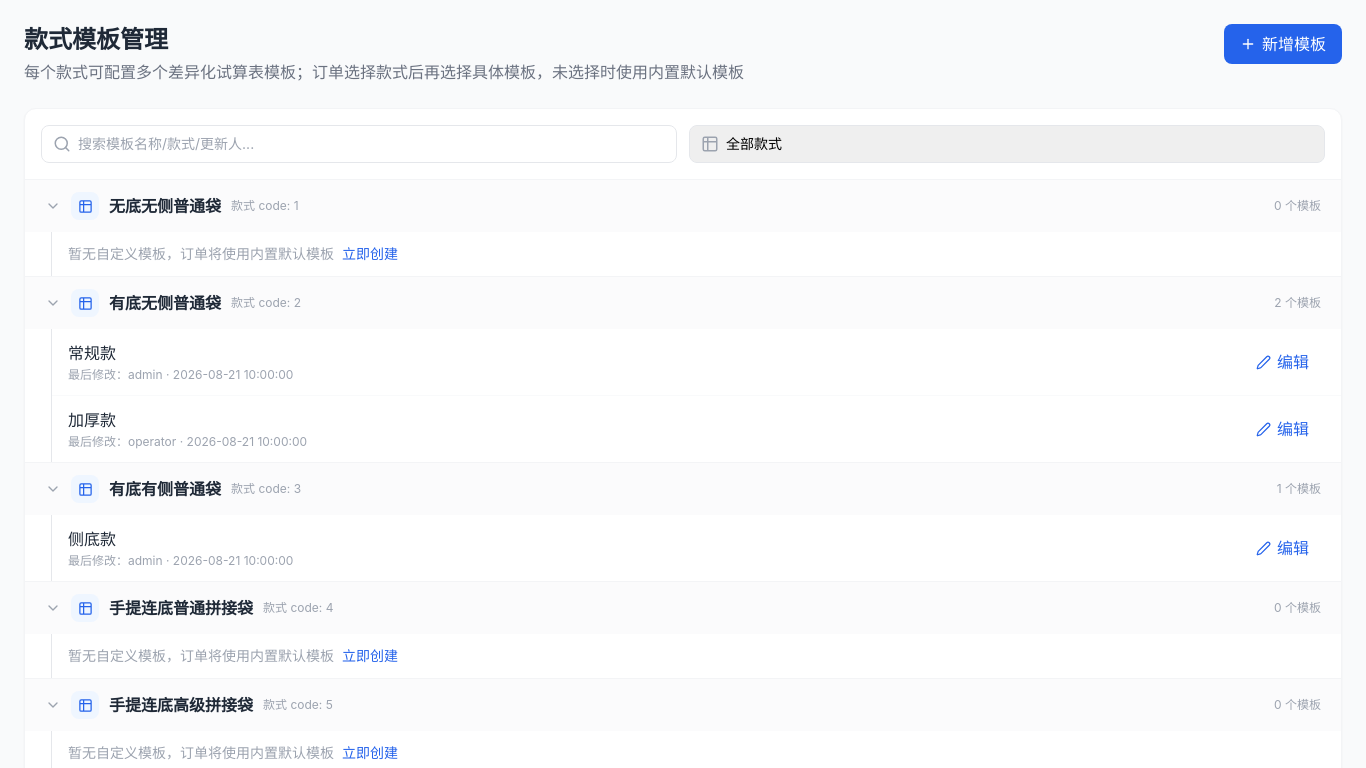
Test: 款式模板管理页 › 字段查询（与订单列表一致） › 按模板名称搜索：仅显示命中的模板，无命中的款式组隐藏
The image size is (1366, 768).
Expected: the text "常规款" is shown, [68,343,116,363]
Step 1. Type "加厚" into the field with placeholder "搜索模板名称/款式/更新人..." → (359, 144), box [41,125,677,163]
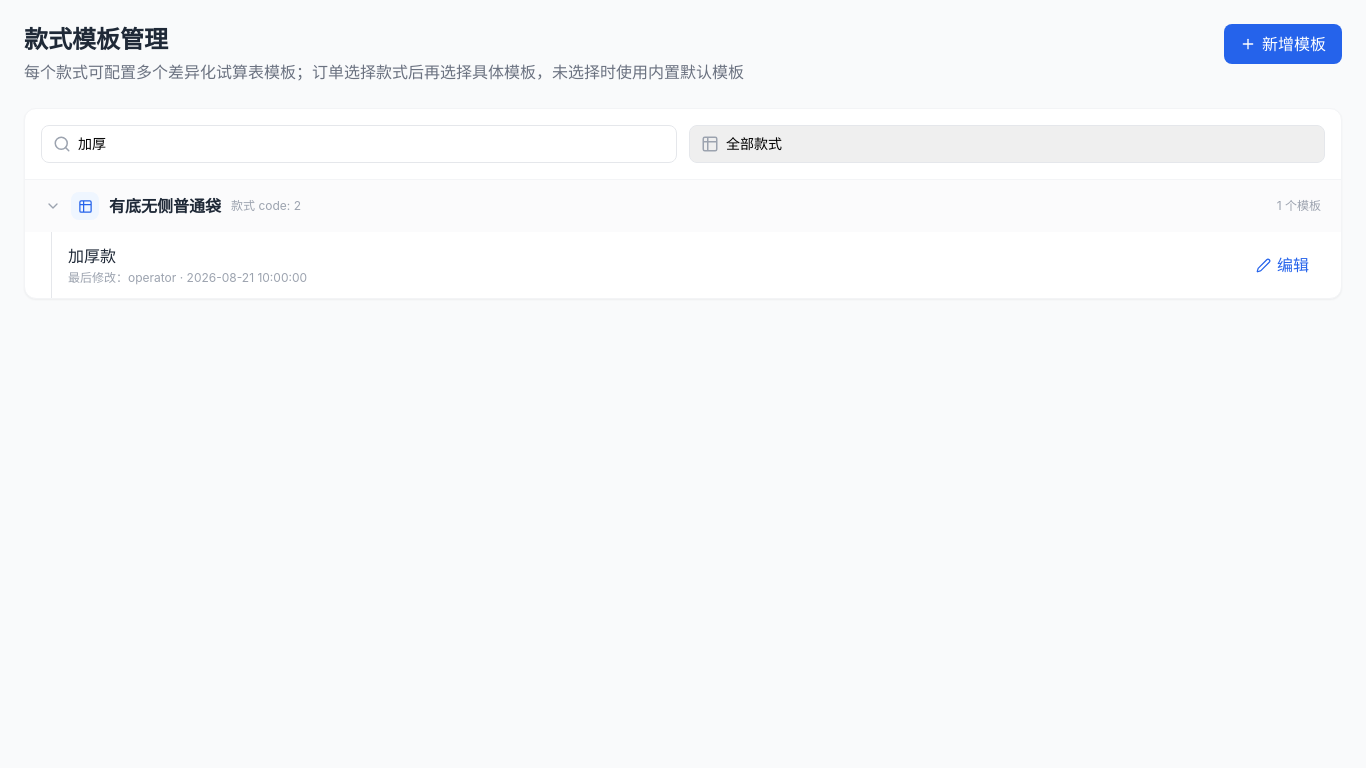
Result: the text "常规款" is gone
Result: the text "侧底款" is gone
Result: the button "无底无侧普通袋" is gone
